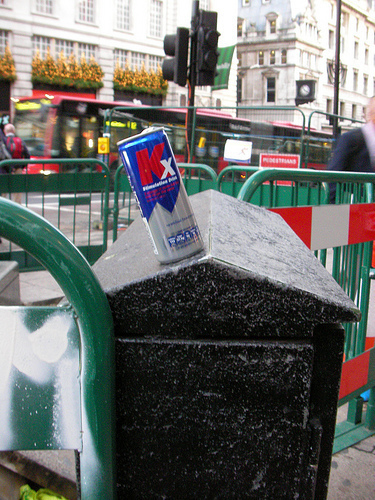litter: (115, 130, 203, 263)
